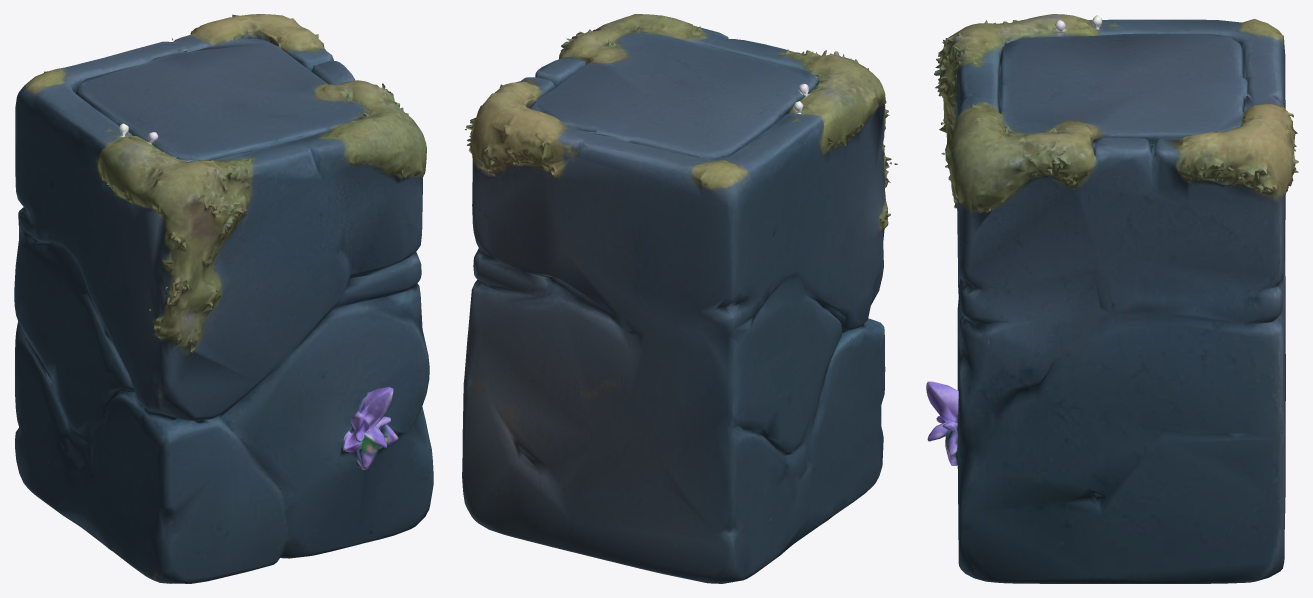
3 renders of one model, left to right at view 1: azimuth 30°, elevation 25°; view 2: azimuth 150°, elevation 25°; view 3: azimuth 270°, elevation 25°, orthographic. The views are drawn at different scales.
Parts seen in each view (by area): view 1: world; view 2: world; view 3: world.
Boxes of the visible parts, <box> form: world: <box>14,14,433,583</box>; world: <box>462,14,897,583</box>; world: <box>926,14,1298,583</box>.
Size of the model in its own units: 0.7187 by 1 by 0.7603.
Materials: 1 (1 with a texture image).
